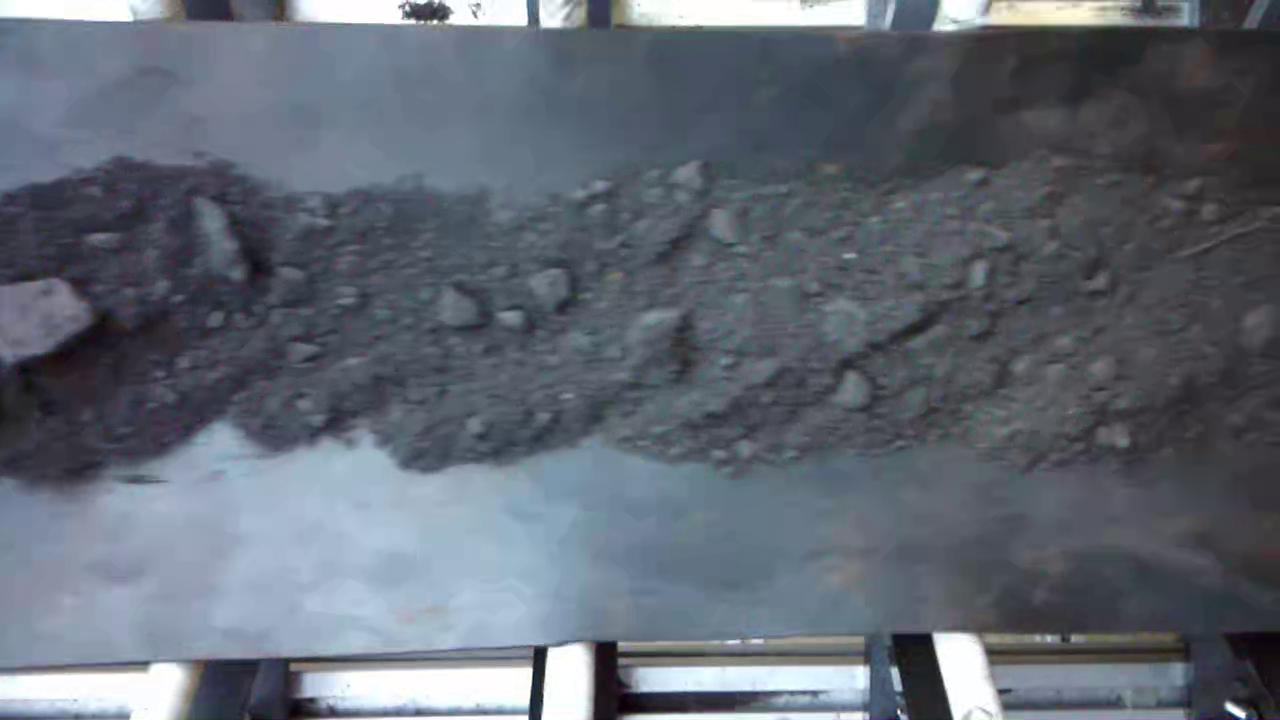conveyor: (1, 34, 1280, 623)
